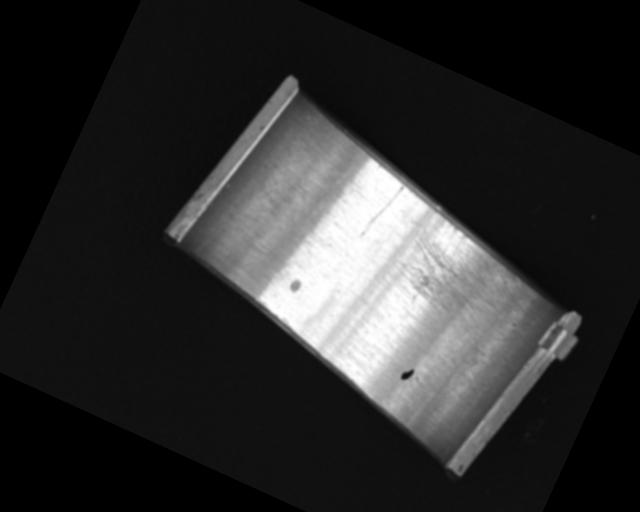blot: (399, 364, 416, 383)
bruise: (287, 277, 303, 294)
nick: (195, 171, 274, 272), (359, 177, 405, 245)
scratch: (385, 202, 534, 338)
